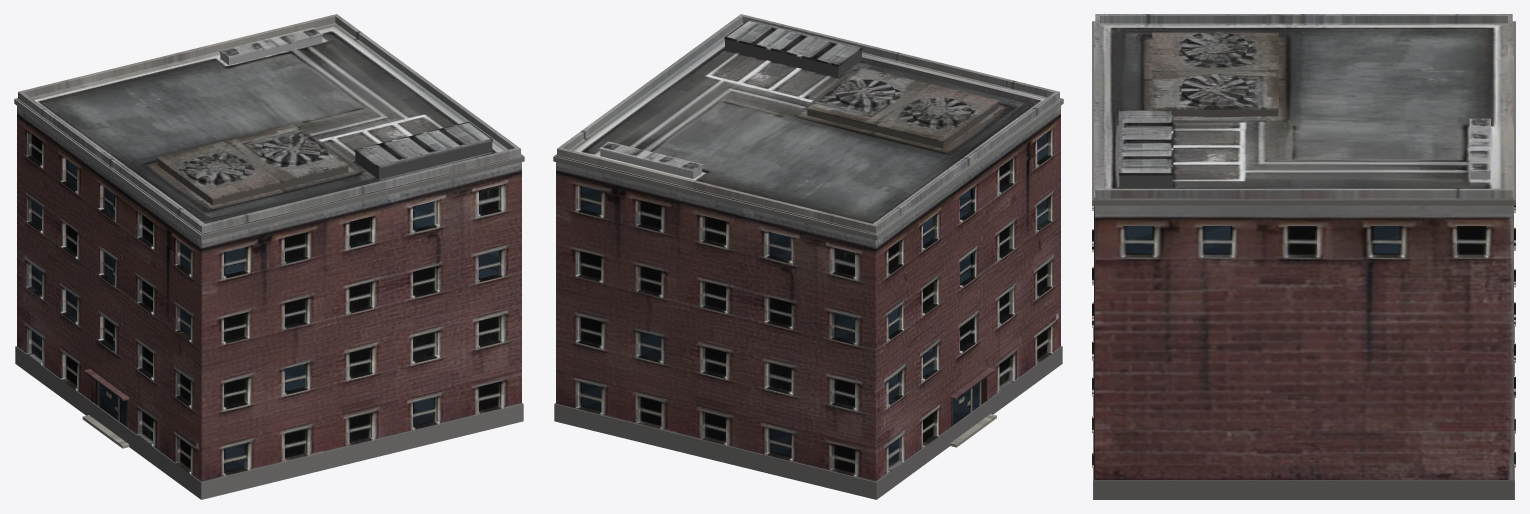
Rendered from city4storya_cad.glb.
3 renders of one model, left to right at view 1: azimuth 30°, elevation 25°; view 2: azimuth 150°, elevation 25°; view 3: azimuth 270°, elevation 25°, orthographic. The views are drawn at different scales.
Visible parts, largest first — view 1: City4Story_; view 2: City4Story_; view 3: City4Story_.
Part boxes in pixels (bbox=[...]): City4Story_: bbox=[14, 14, 524, 499]; City4Story_: bbox=[553, 14, 1063, 499]; City4Story_: bbox=[1092, 14, 1515, 499].
Size of the model in its own units: 18.4 by 14.86 by 18.08.
1 material, 1 textured.
